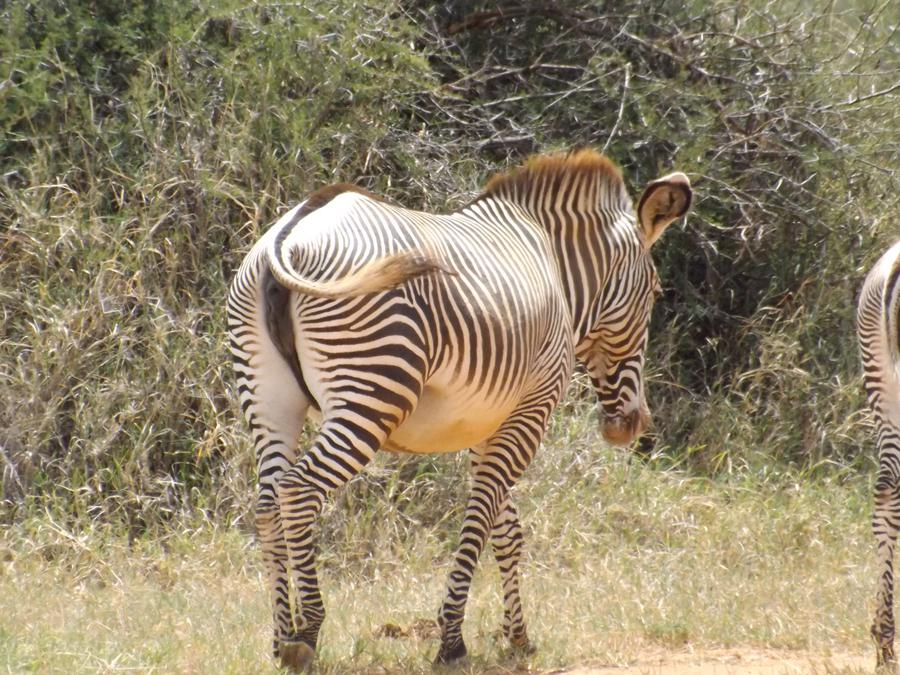zebra_grevys: (256, 194, 564, 427)
